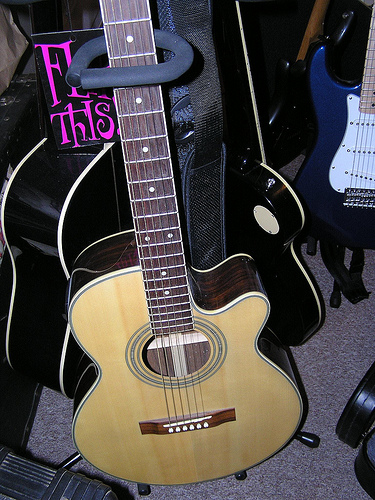guitar: (63, 1, 311, 487)
